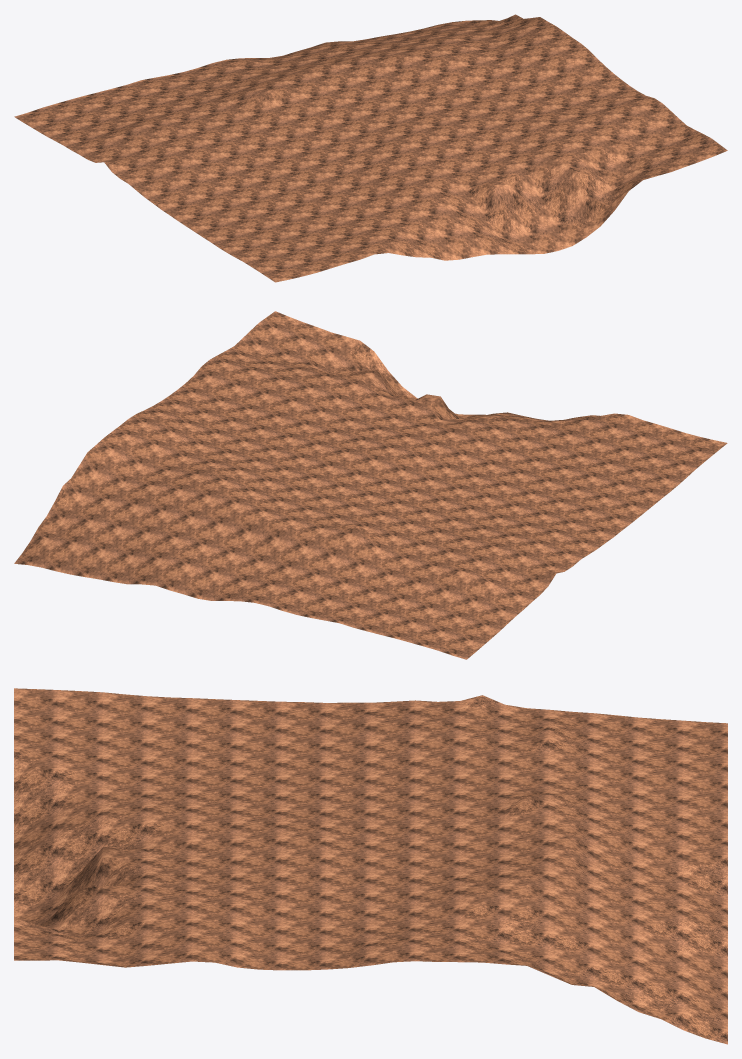
File: terrain_01_13.dae
The picture shows the model from 3 angles, top to bottom: view 1: azimuth 30°, elevation 25°; view 2: azimuth 150°, elevation 25°; view 3: azimuth 270°, elevation 25°; orthographic projection. The views are drawn at different scales.
Visible parts, largest first — view 1: terrain_01_13-node; view 2: terrain_01_13-node; view 3: terrain_01_13-node.
Part boxes in pixels (<box>): terrain_01_13-node: <box>14,14,727,282</box>; terrain_01_13-node: <box>14,311,727,659</box>; terrain_01_13-node: <box>14,688,727,1044</box>.
Bounding box in the file's own units: 128 × 128 × 16.65.
Materials: 1 (1 with a texture image).
